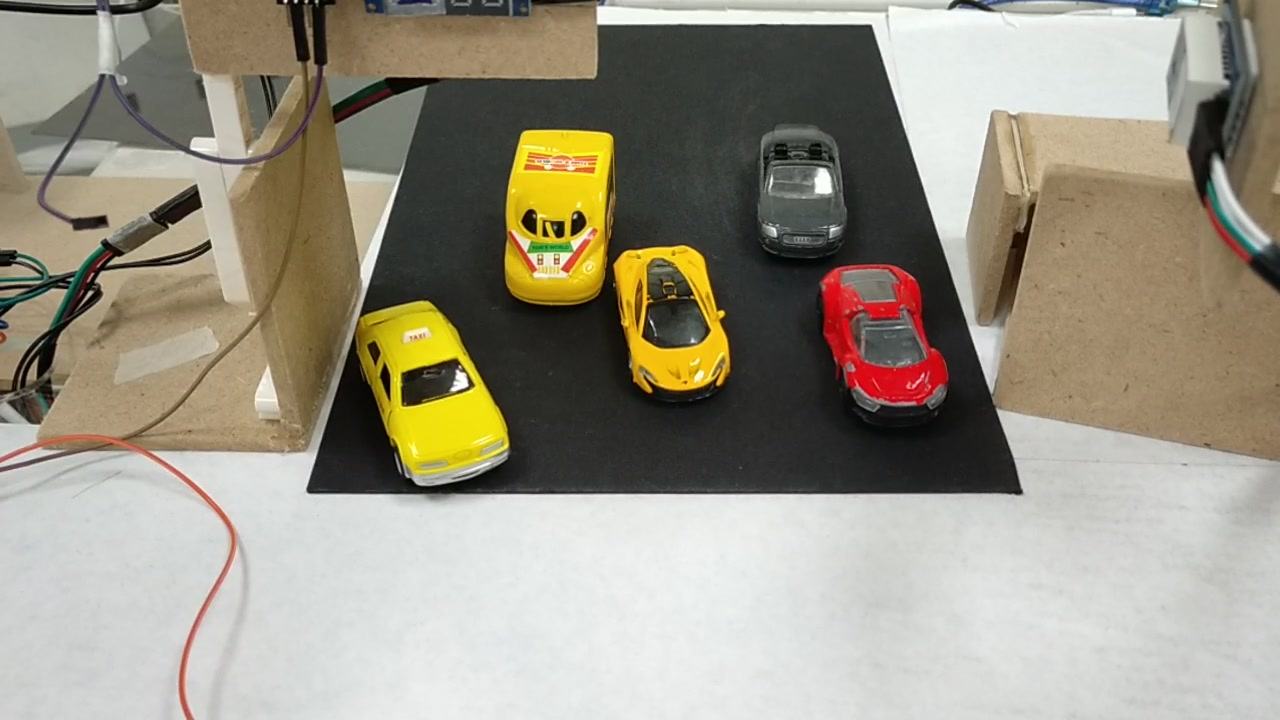car: (350, 310, 506, 495), (810, 264, 952, 427), (610, 242, 729, 395), (754, 132, 841, 261)
